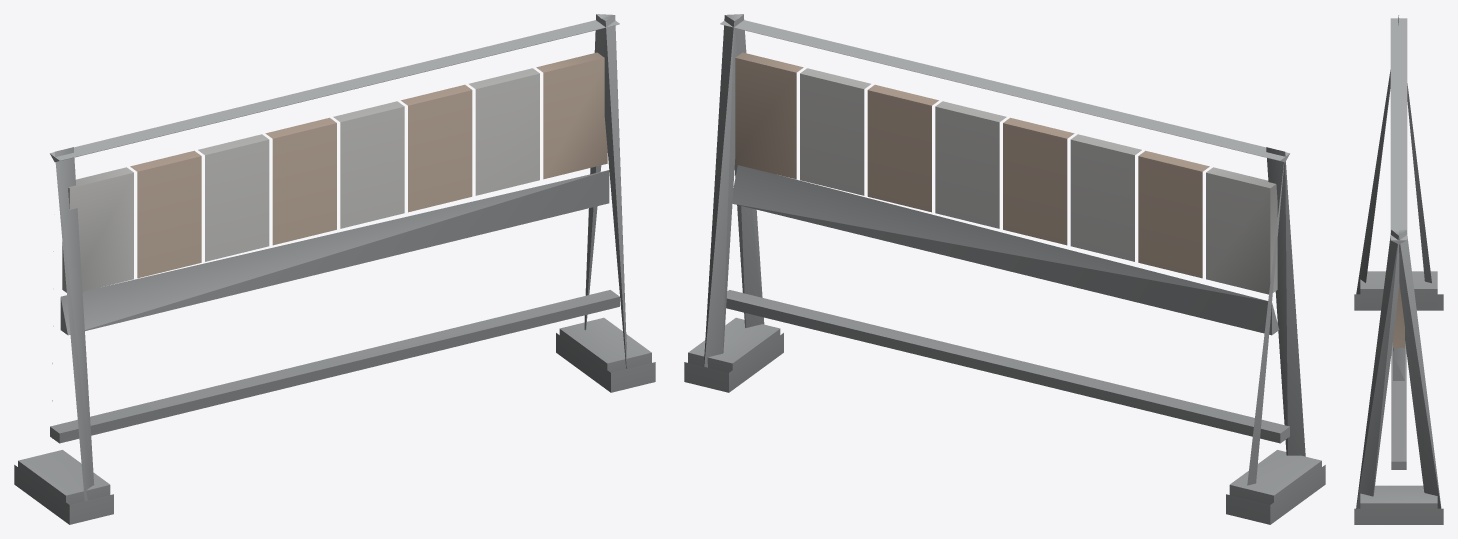
The model's file is rail.lod1.glb.
3 renders of one model, left to right at view 1: azimuth 30°, elevation 25°; view 2: azimuth 150°, elevation 25°; view 3: azimuth 270°, elevation 25°, orthographic. The views are drawn at different scales.
Bounding box in the file's own units: 1.84 × 1.06 × 0.3.
